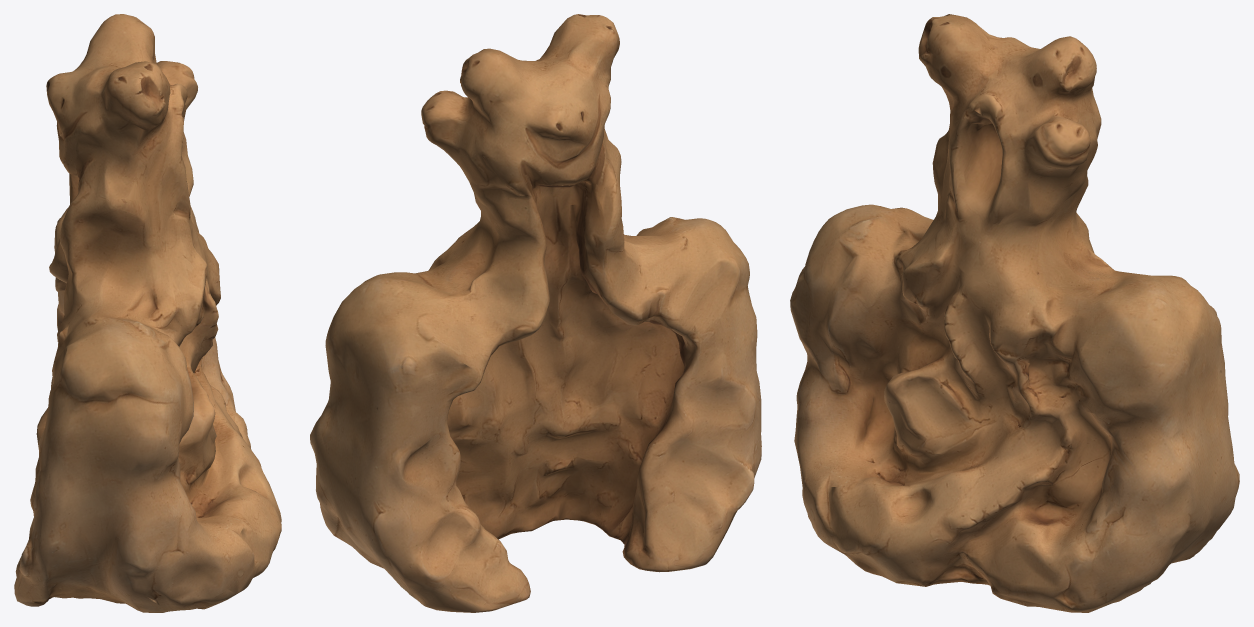
File: 02_jogak.glb
3 renders of one model, left to right at view 1: azimuth 30°, elevation 25°; view 2: azimuth 150°, elevation 25°; view 3: azimuth 270°, elevation 25°, orthographic. The views are drawn at different scales.
Visible parts, largest first — view 1: Group7777; view 2: Group7777; view 3: Group7777.
Part boxes in pixels (x1,y1,x2,y2): Group7777: [14, 14, 281, 612]; Group7777: [310, 14, 761, 612]; Group7777: [790, 14, 1239, 612].
Size of the model in its own units: 1.17 by 1.82 by 1.42.
1 material, 1 textured.
